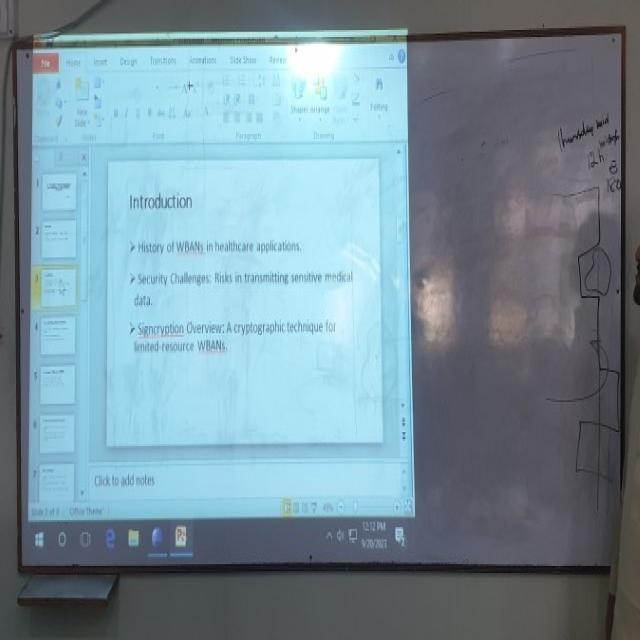Slide: (29, 30, 413, 550)
White-board: (12, 29, 625, 572)
